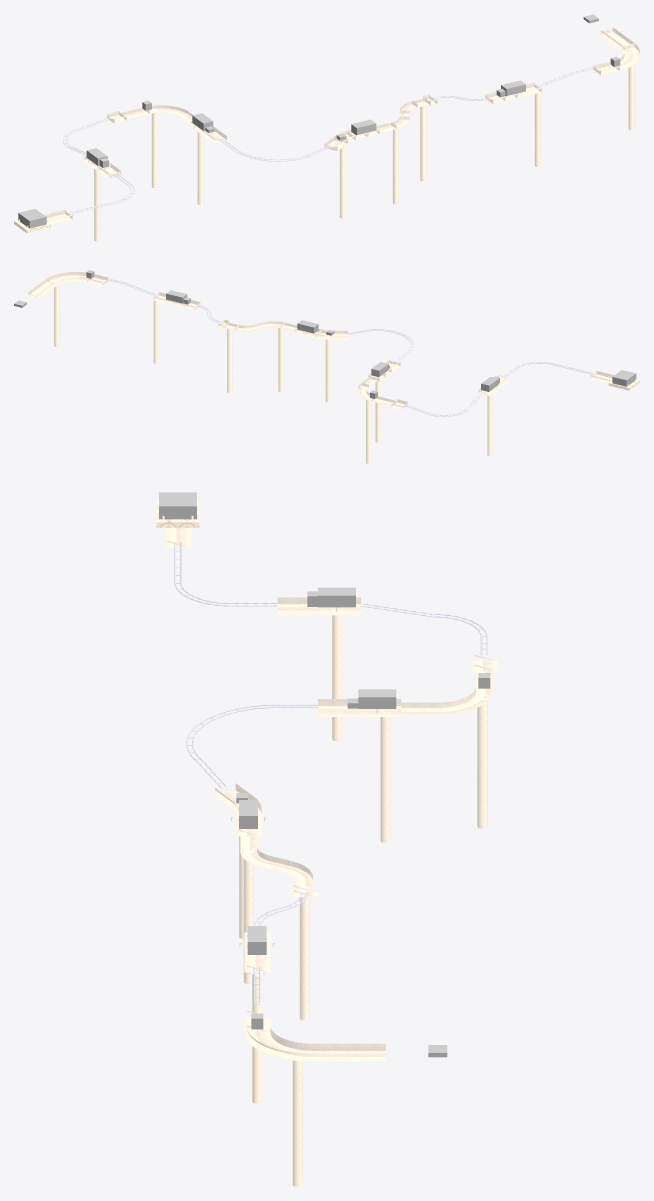
Rendered from level.gltf.
The picture shows the model from 3 angles, top to bottom: view 1: azimuth 30°, elevation 25°; view 2: azimuth 150°, elevation 25°; view 3: azimuth 270°, elevation 25°; orthographic projection. The views are drawn at different scales.
Visible parts, largest first — view 1: Column_002, Column_006, Column_005, Column_007, Column_004, Column_003, Column_001, Column_008, PS_FourFlames_01, Floor_027, Floor_026; view 2: Floor_026, Column_004, Column_006, Column_005, Column_007, Column_008, Column_001, Column_002, Column_003, PS_FourFlames_01; view 3: Column_003, Column_002, Column_006, Column_008, Floor_026, Floor_027, Column_001, PS_FourFlames_01, Column_007, Column_005.
Boxes of the visible parts, bbox=[...] form: Column_002: bbox=[151, 109, 158, 188]; Column_006: bbox=[419, 102, 426, 181]; Column_005: bbox=[392, 125, 399, 204]; Column_007: bbox=[534, 88, 541, 166]; Column_004: bbox=[339, 145, 345, 218]; Column_003: bbox=[197, 132, 203, 204]; Column_001: bbox=[94, 165, 100, 241]; Column_008: bbox=[627, 51, 634, 129]; PS_FourFlames_01: bbox=[18, 208, 46, 228]; Floor_027: bbox=[600, 27, 633, 50]; Floor_026: bbox=[611, 43, 639, 70]; Floor_026: bbox=[46, 272, 89, 285]; Column_004: bbox=[325, 335, 331, 402]; Column_006: bbox=[226, 326, 232, 393]; Column_005: bbox=[278, 326, 283, 391]; Column_007: bbox=[152, 297, 158, 363]; Column_008: bbox=[53, 280, 59, 346]; Column_001: bbox=[487, 394, 492, 455]; Column_002: bbox=[365, 397, 370, 463]; Column_003: bbox=[375, 377, 380, 442]; PS_FourFlames_01: bbox=[612, 370, 636, 386]; Column_003: bbox=[379, 710, 391, 842]; Column_002: bbox=[477, 694, 488, 828]; Column_006: bbox=[298, 886, 310, 1020]; Column_008: bbox=[292, 1060, 302, 1186]; Floor_026: bbox=[244, 1025, 314, 1061]; Floor_027: bbox=[314, 1043, 385, 1061]; Column_001: bbox=[330, 609, 343, 741]; PS_FourFlames_01: bbox=[159, 492, 196, 519]; Column_007: bbox=[250, 970, 264, 1103]; Column_005: bbox=[241, 850, 255, 983].
Size of the model in its own units: 539 by 76.5 by 144.
Materials: 7 (7 with a texture image).
